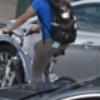bicycles: (2, 27, 82, 83)
